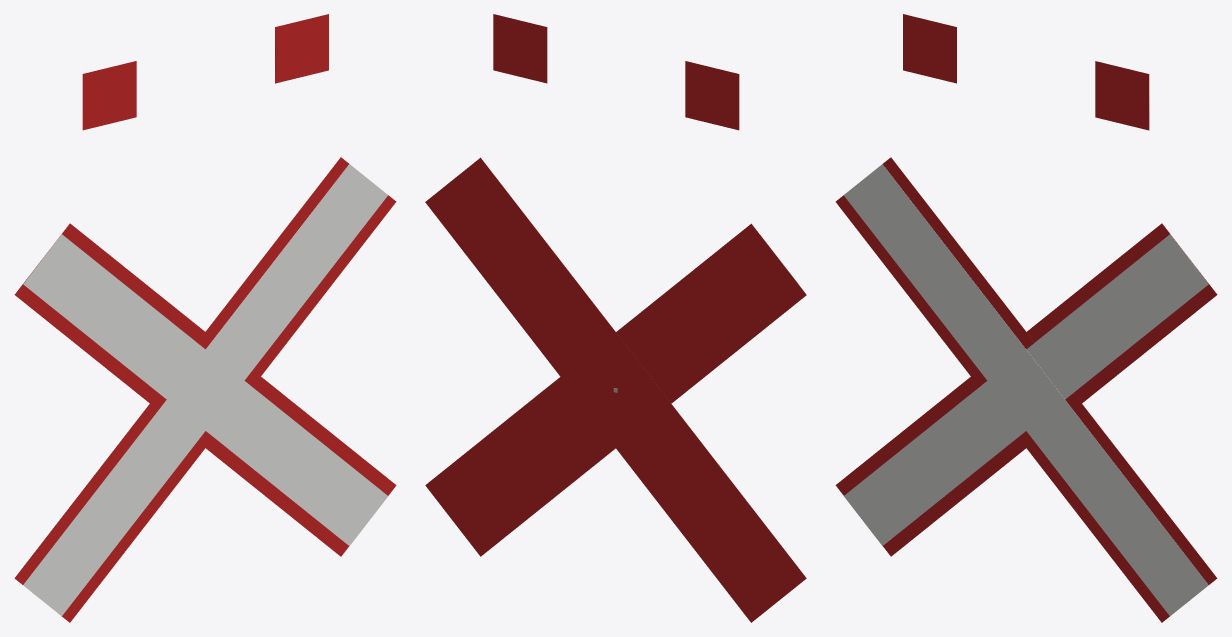
Rendered from G1cbis.glb.
3 views of the same model, side by side, from view 1: azimuth 30°, elevation 25°; view 2: azimuth 150°, elevation 25°; view 3: azimuth 330°, elevation 25° (orthographic).
Visible parts, largest first — view 1: G1cbis_bras03, G1cbis_bras02, G1cbis_bras01, G1cbis_bras00, G1cbis_feu04, G1cbis_feu05; view 2: G1cbis_bras00, G1cbis_bras01, G1cbis_feu05, G1cbis_feu04; view 3: G1cbis_bras03, G1cbis_bras02, G1cbis_bras01, G1cbis_bras00, G1cbis_feu05, G1cbis_feu04.
Part boxes in pixels (x1,y1,x2,y2): G1cbis_bras03: [23, 234, 388, 545]; G1cbis_bras02: [23, 164, 387, 615]; G1cbis_bras01: [14, 223, 396, 556]; G1cbis_bras00: [14, 157, 396, 622]; G1cbis_feu04: [82, 61, 136, 130]; G1cbis_feu05: [275, 14, 328, 83]; G1cbis_bras00: [425, 157, 806, 622]; G1cbis_bras01: [425, 223, 806, 556]; G1cbis_feu05: [493, 14, 547, 83]; G1cbis_feu04: [685, 61, 739, 130]; G1cbis_bras03: [843, 164, 1208, 615]; G1cbis_bras02: [844, 234, 1208, 545]; G1cbis_bras01: [835, 157, 1217, 622]; G1cbis_bras00: [835, 223, 1217, 556]; G1cbis_feu05: [1095, 61, 1149, 130]; G1cbis_feu04: [903, 14, 956, 83].
Bounding box in the file's own units: 0.9928 × 1.36 × 0.0037.
